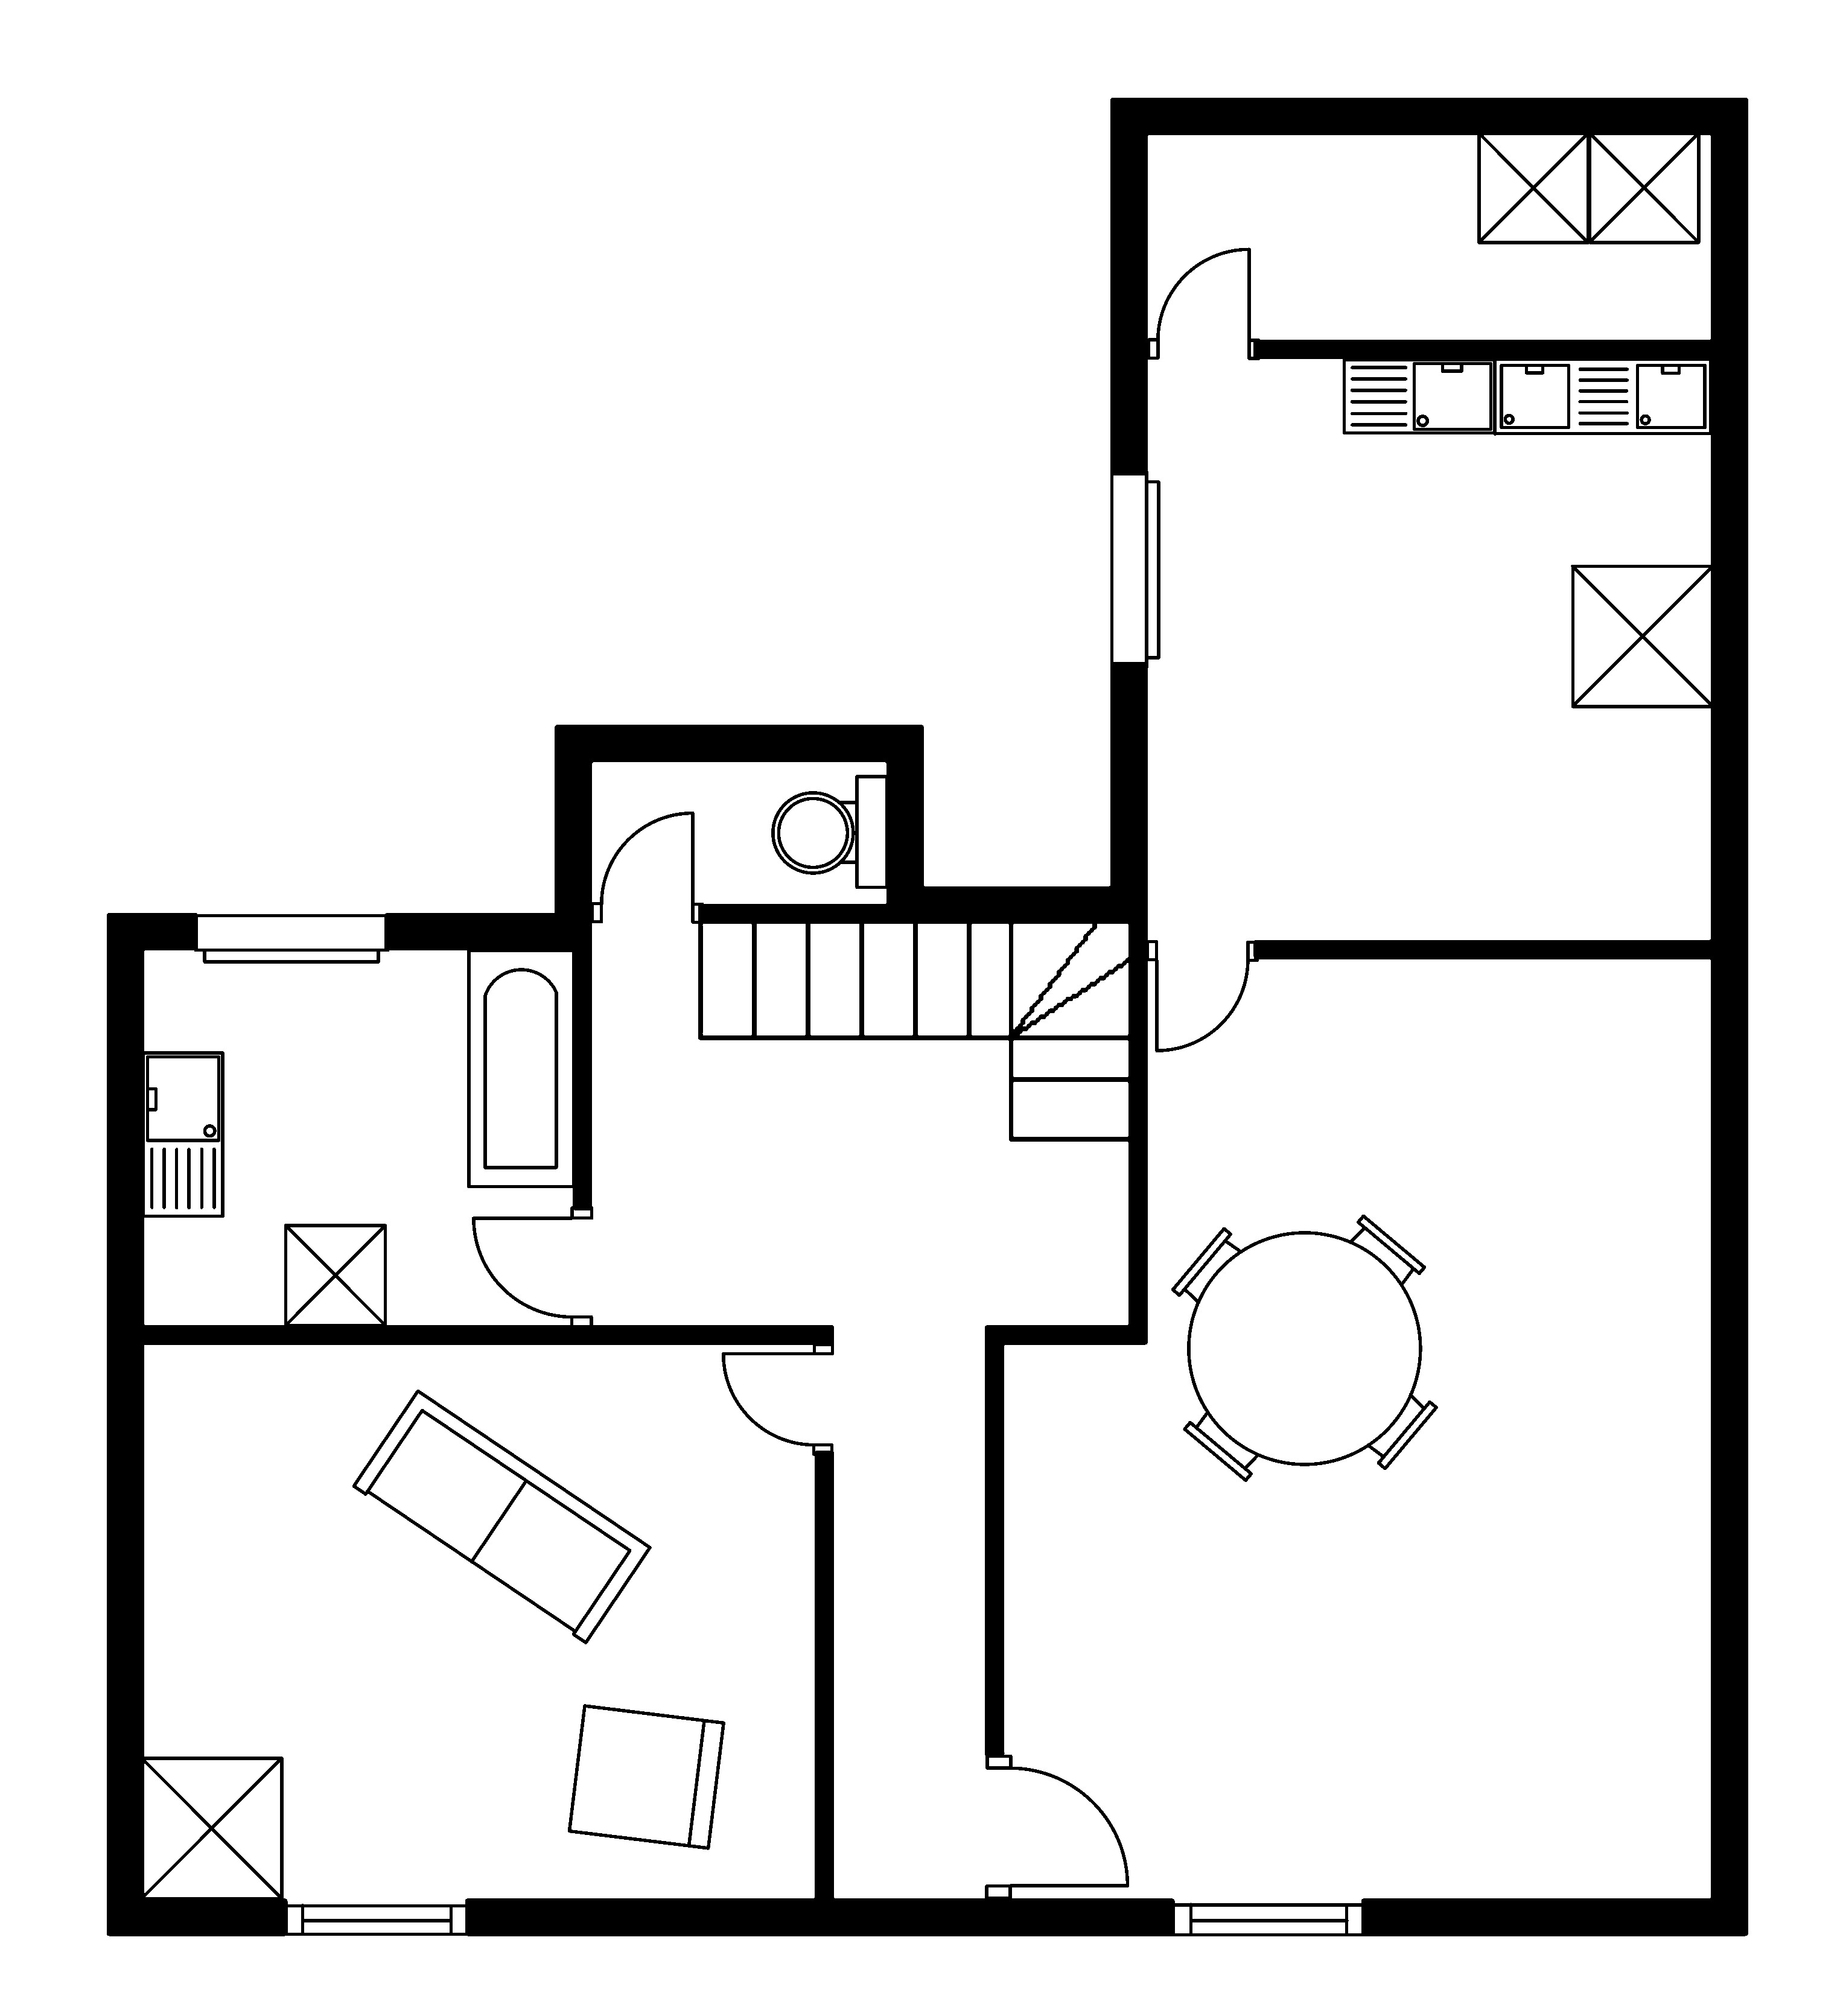coffee_table: (1568, 562, 1714, 709), (139, 1754, 285, 1900), (1586, 130, 1702, 246), (1475, 130, 1590, 246), (281, 1222, 388, 1328)
large_sink: (771, 773, 889, 889)
large_sofa: (351, 1387, 652, 1645)
round_table: (1170, 1213, 1439, 1482)
sink: (141, 1050, 225, 1219), (1340, 356, 1496, 436)
small_sofa: (566, 1703, 725, 1851)
tub: (465, 947, 576, 1189)
twin_sink: (1491, 356, 1713, 436)
